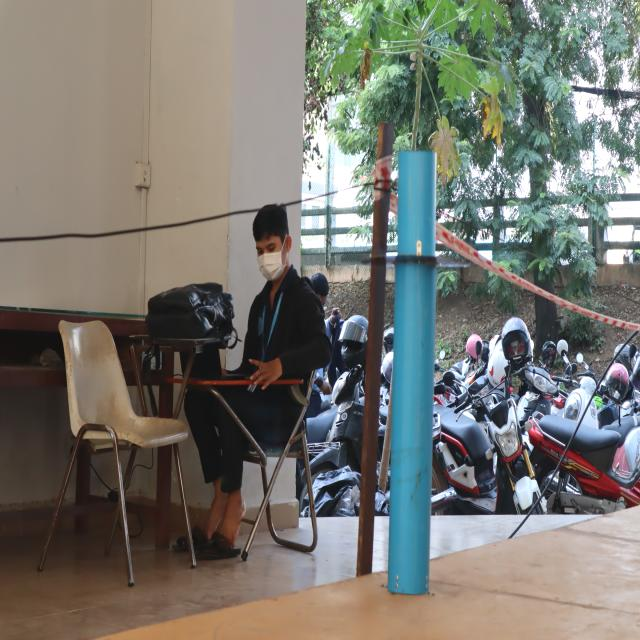pole: (358, 135, 472, 359)
